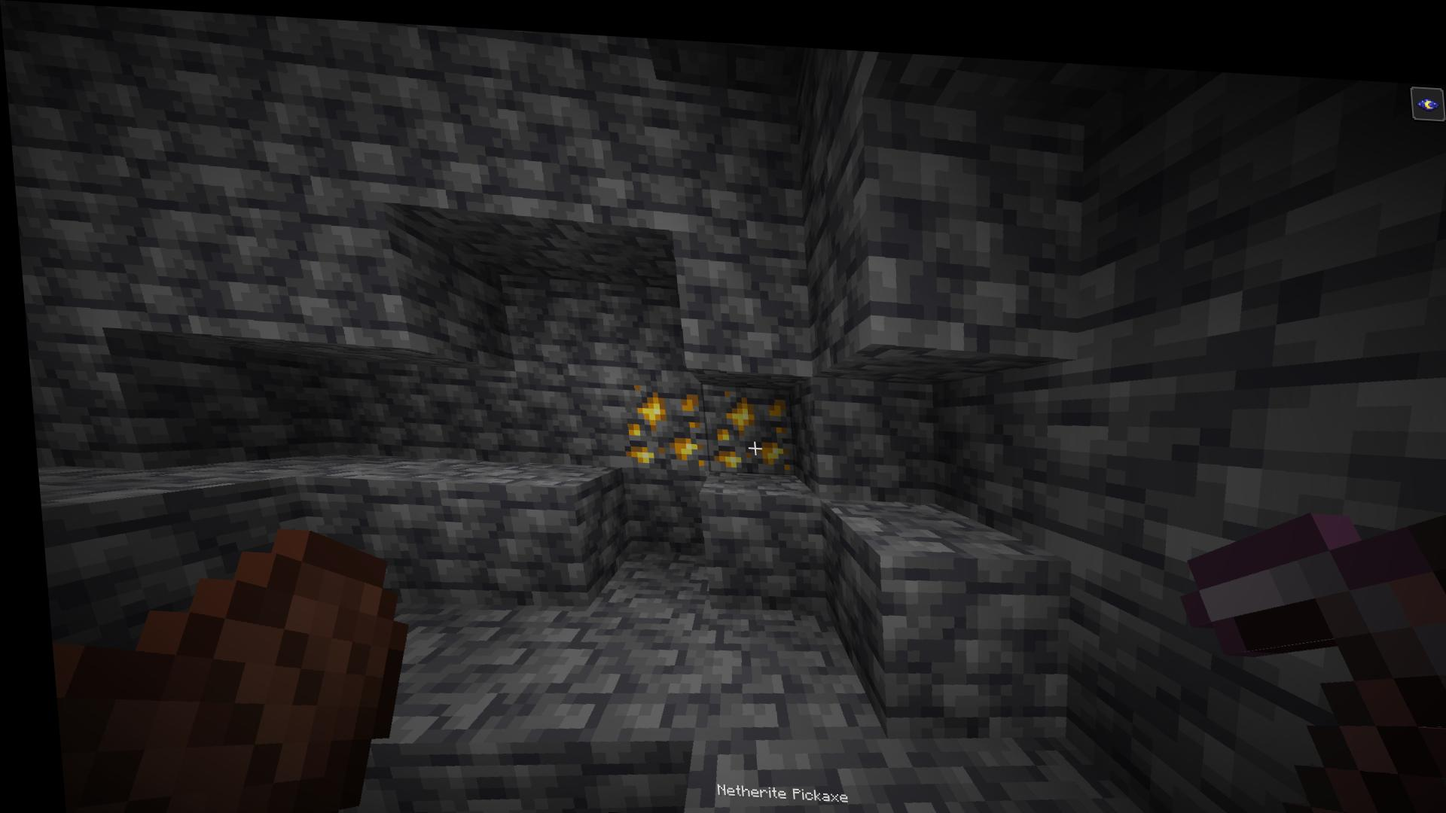gold ore: (699, 377, 794, 467), (615, 372, 704, 461)
